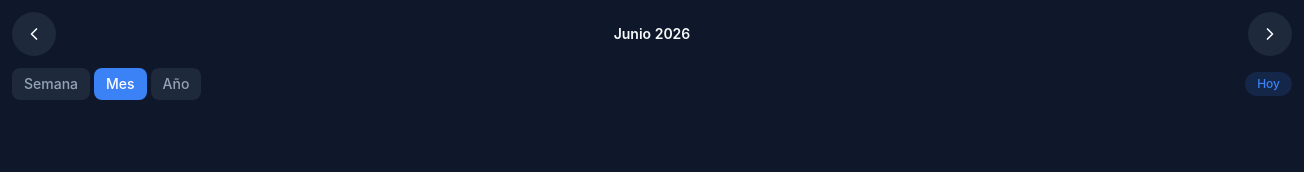
PeriodoNavegacion.svelte › navegación (AC-04, AC-05, AC-06, AC-07) › click en Anterior cambia la fecha de referencia para mes (AC-05)
Click the button named "Periodo anterior" at x=34, y=34, box [12, 12, 56, 56]
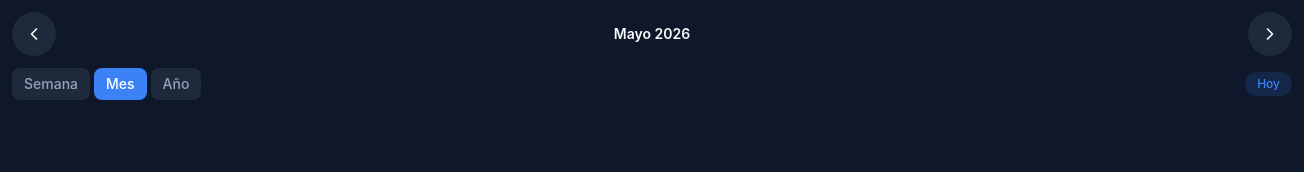
Now the button "Mayo 2026" is shown, box [60, 16, 1244, 52]
